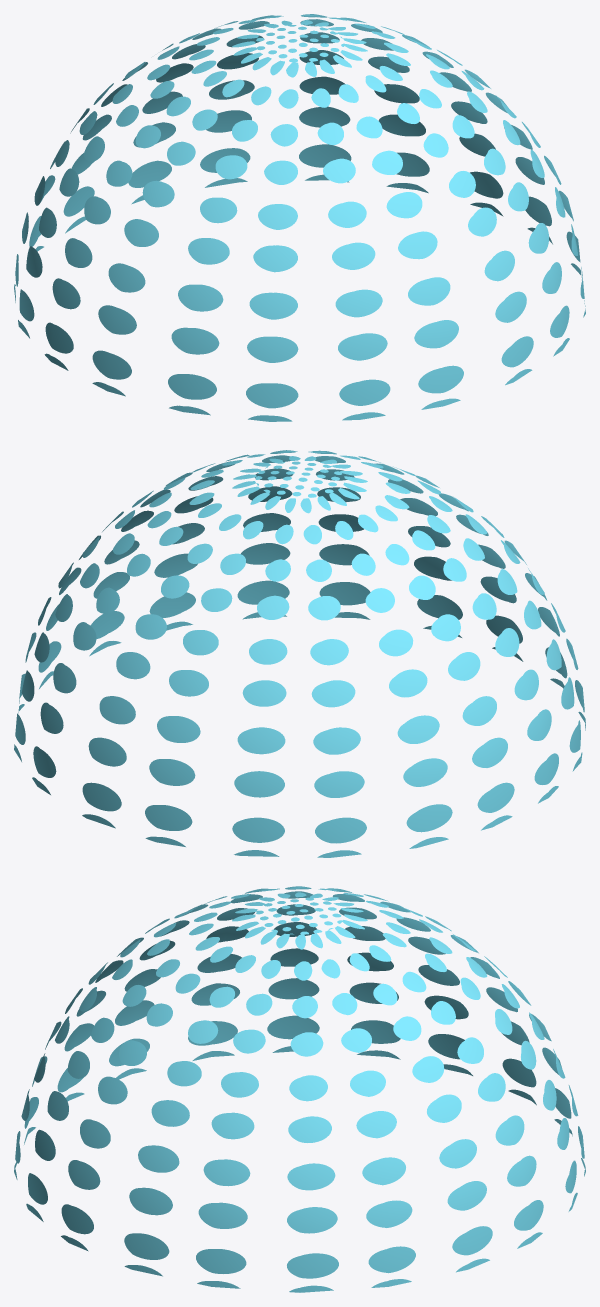
File: shield.fbx
The picture shows the model from 3 angles, top to bottom: view 1: azimuth 30°, elevation 25°; view 2: azimuth 150°, elevation 25°; view 3: azimuth 270°, elevation 25°; orthographic projection.
Visible parts, largest first — view 1: shield_sphere; view 2: shield_sphere; view 3: shield_sphere.
Boxes of the visible parts, x1,y1,x2,y2 form: shield_sphere: (14, 14, 585, 421); shield_sphere: (14, 450, 585, 857); shield_sphere: (14, 886, 585, 1292).
Size of the model in its own units: 140 by 70 by 140.
Materials: 1 (1 with a texture image).
